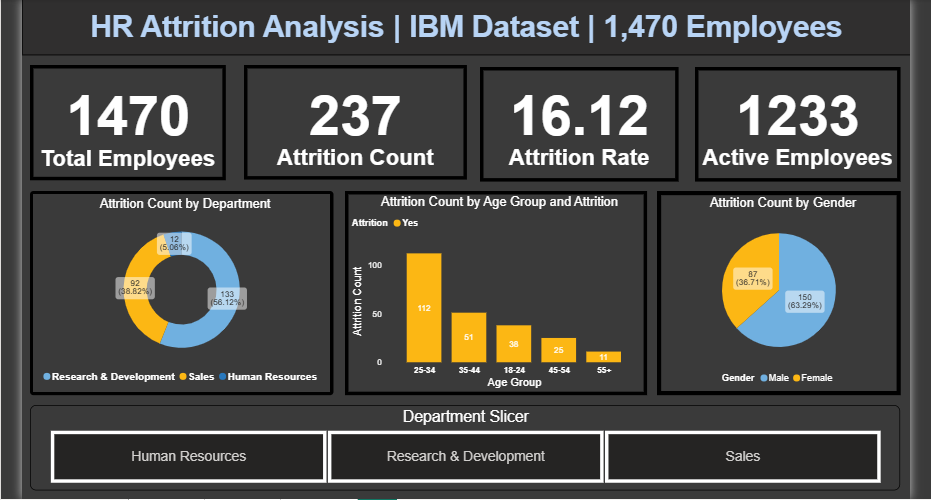

The page's visual inventory and layout, read from the dashboard file:
{"tool":"powerbi","page":{"name":"Page 1","canvas":[1280,720],"ordinal":0},"visuals":[{"type":"textbox","box":[0,0,1280,80.6],"z":0},{"type":"card","fields":{"Values":["HR-Employee-Data.Total Employees"]},"box":[11.8,95.7,282.2,166.3],"z":1},{"type":"card","fields":{"Values":["HR-Employee-Data.Active Employees"]},"box":[969.2,97.4,295.6,164.6],"z":2},{"type":"card","fields":{"Values":["HR-Employee-Data.Attrition Rate"]},"box":[660.2,97.4,285.6,164.6],"z":3},{"type":"card","fields":{"Values":["HR-Employee-Data.Attrition Count"]},"box":[319.2,95.7,320.8,164.6],"z":4},{"type":"donutChart","fields":{"Category":["HR-Employee-Data.Department"],"Y":["HR-Employee-Data.Attrition Count"]},"box":[11.8,277.2,436.7,294],"z":5},{"type":"columnChart","fields":{"Category":["HR-Employee-Data.Age Group"],"Y":["HR-Employee-Data.Attrition Count"],"Series":["HR-Employee-Data.Attrition"]},"box":[465.3,277.2,435.1,294],"z":6},{"type":"pieChart","fields":{"Category":["HR-Employee-Data.Gender"],"Y":["HR-Employee-Data.Attrition Count"]},"box":[913.8,277.2,351.1,294],"z":7},{"type":"slicer","title":"Department Slicer","fields":{"Values":["HR-Employee-Data.Department"]},"box":[11.8,584.6,1253.1,122.6],"z":8}]}

Visuals, with their boxes on the page's 1280x720 design canvas (x1, y1, x2, y2). These are canvas units, not pixel positions in the 931x500 screenshot, which may show the page scaled, cropped or inside an application window:
textbox: (0, 0, 1280, 81)
card - HR-Employee-Data.Total Employees: (12, 96, 294, 262)
card - HR-Employee-Data.Active Employees: (969, 97, 1265, 262)
card - HR-Employee-Data.Attrition Rate: (660, 97, 946, 262)
card - HR-Employee-Data.Attrition Count: (319, 96, 640, 260)
donutChart - HR-Employee-Data.Department x HR-Employee-Data.Attrition Count: (12, 277, 448, 571)
columnChart - HR-Employee-Data.Age Group x HR-Employee-Data.Attrition Count: (465, 277, 900, 571)
pieChart - HR-Employee-Data.Gender x HR-Employee-Data.Attrition Count: (914, 277, 1265, 571)
"Department Slicer" slicer: (12, 585, 1265, 707)
